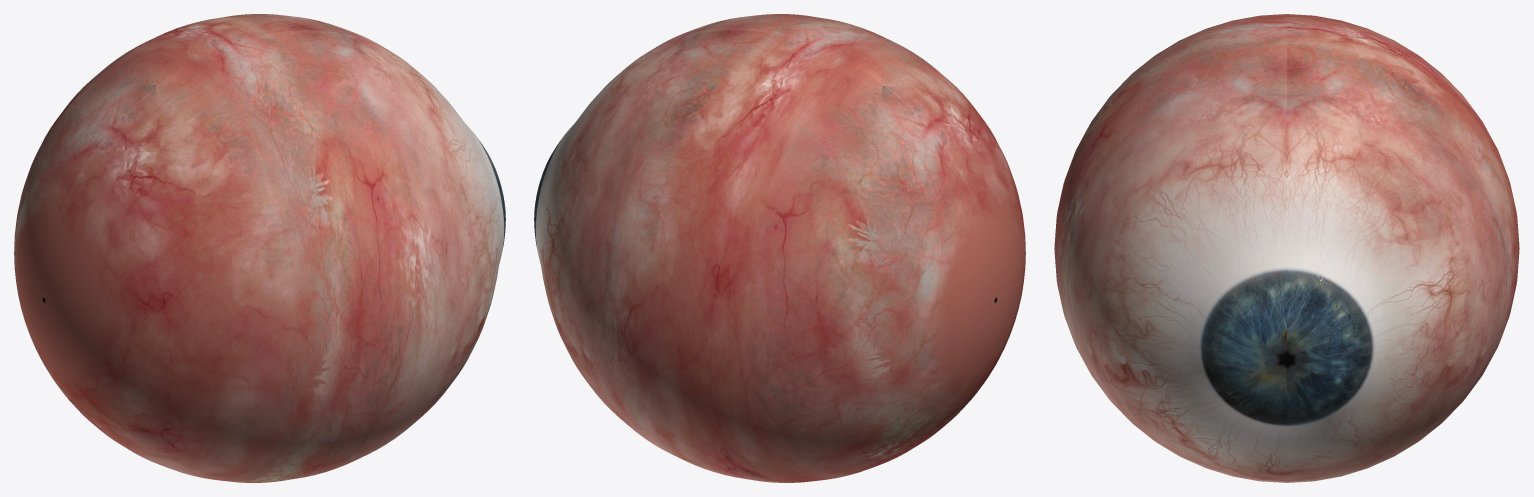
Rendered from eye.57d33f91.glb.
3 renders of one model, left to right at view 1: azimuth 30°, elevation 25°; view 2: azimuth 150°, elevation 25°; view 3: azimuth 270°, elevation 25°, orthographic.
Visible parts, largest first — view 1: Sphere; view 2: Sphere; view 3: Sphere.
Part boxes in pixels (x1,y1,x2,y2): Sphere: [14, 14, 505, 482]; Sphere: [534, 14, 1025, 482]; Sphere: [1054, 14, 1519, 482].
Size of the model in its own units: 2.07 by 1.9 by 1.9.
1 material, 1 textured.
